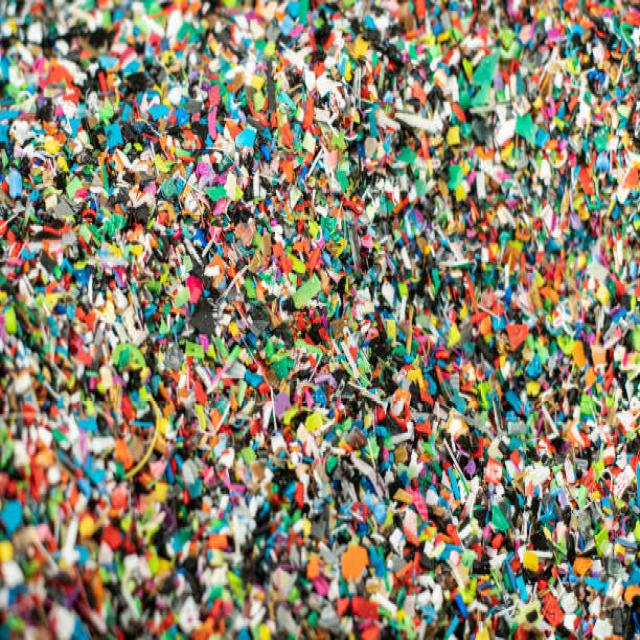plastic: (22, 143, 627, 505)
